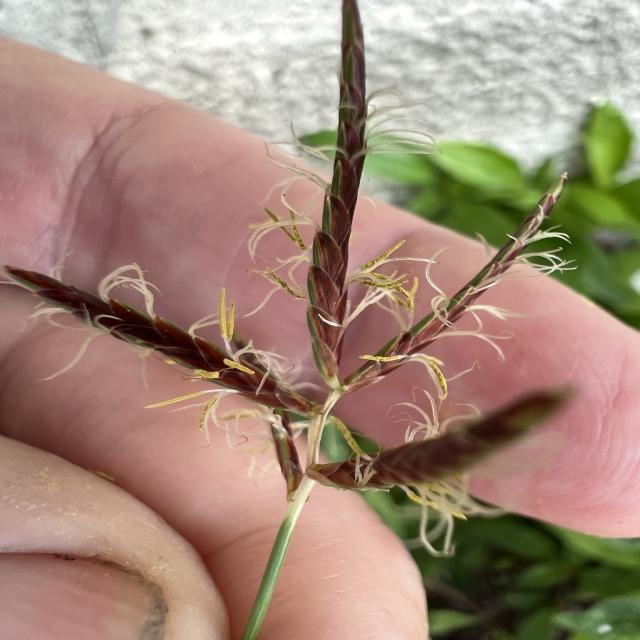cyperus: (4, 2, 586, 532)
